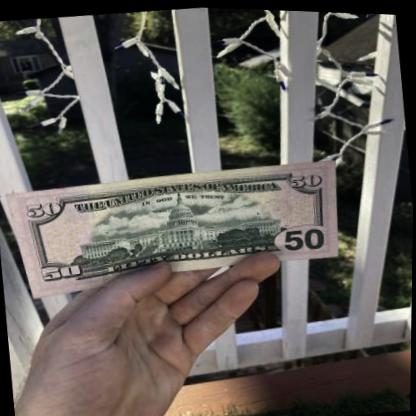fifty-back: (5, 157, 340, 299)
